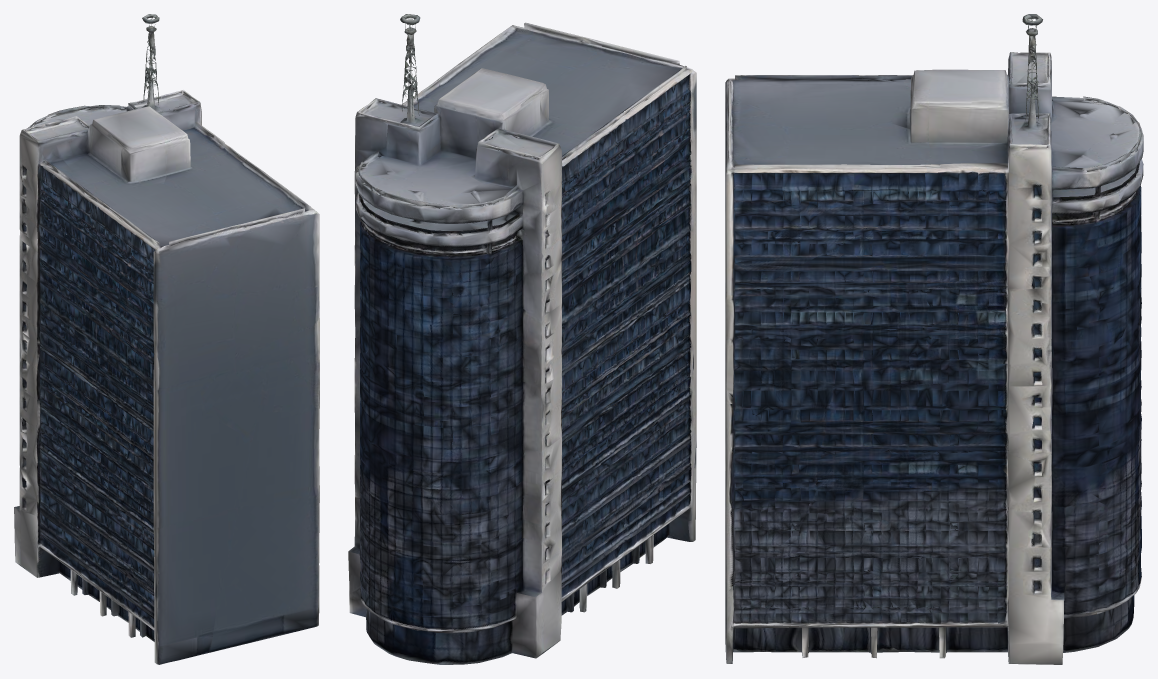
Rendered from Eko_Tower_1_opt.glb.
3 views of the same model, side by side, from view 1: azimuth 30°, elevation 25°; view 2: azimuth 150°, elevation 25°; view 3: azimuth 270°, elevation 25° (orthographic). The views are drawn at different scales.
Visible parts, largest first — view 1: tripo_node_69b9fb48-04ea-4bdb-8e92-08a4da0fd065; view 2: tripo_node_69b9fb48-04ea-4bdb-8e92-08a4da0fd065; view 3: tripo_node_69b9fb48-04ea-4bdb-8e92-08a4da0fd065.
Part boxes in pixels (x1,y1,x2,y2): tripo_node_69b9fb48-04ea-4bdb-8e92-08a4da0fd065: (14, 14, 319, 664); tripo_node_69b9fb48-04ea-4bdb-8e92-08a4da0fd065: (348, 14, 696, 664); tripo_node_69b9fb48-04ea-4bdb-8e92-08a4da0fd065: (725, 14, 1143, 664).
Size of the model in its own units: 0.3042 by 0.9211 by 0.5594.
1 material, 1 textured.
